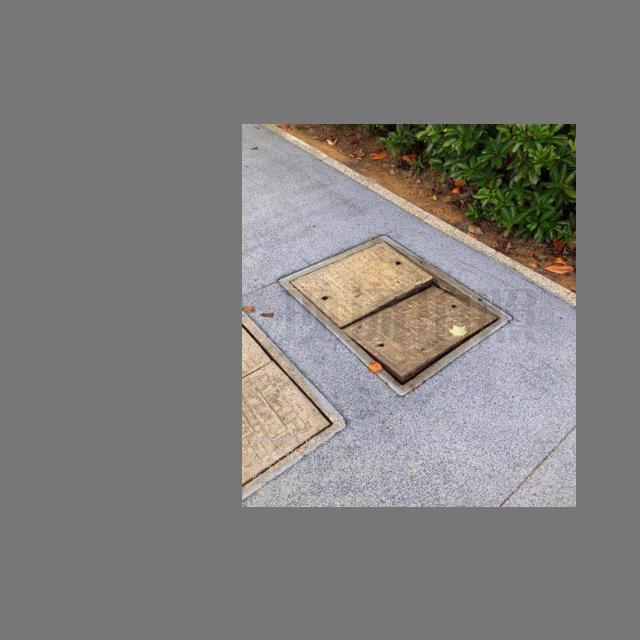uncovered: (277, 234, 512, 396)
